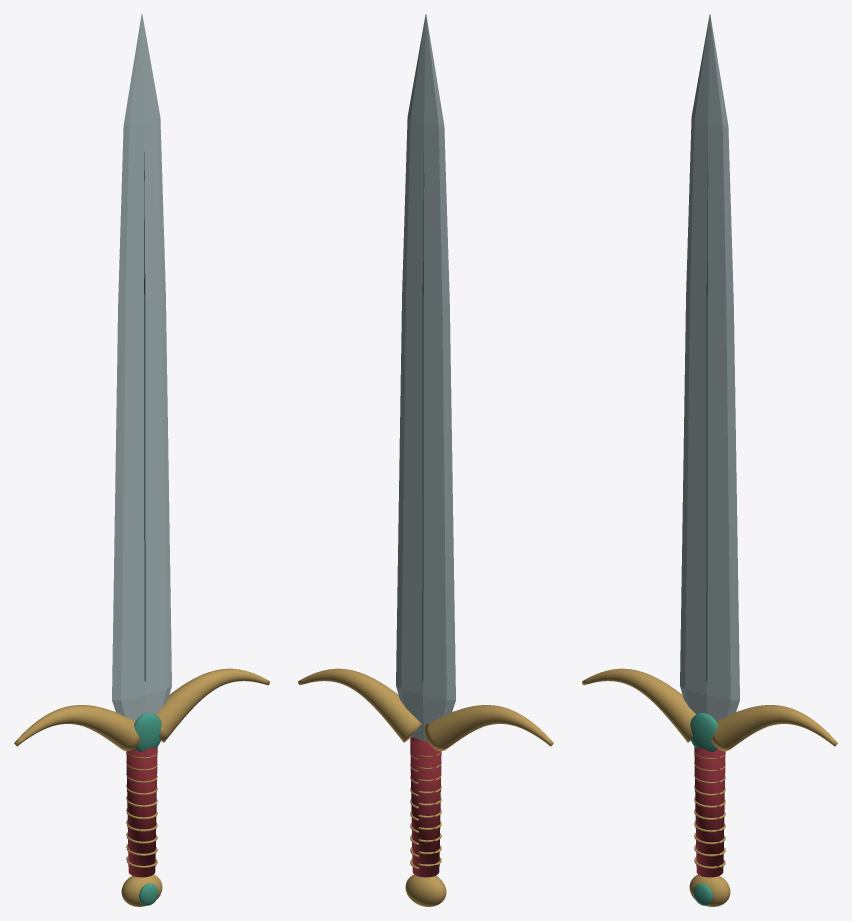
The model's file is jade_sword.glb.
3 views of the same model, side by side, from view 1: azimuth 30°, elevation 25°; view 2: azimuth 150°, elevation 25°; view 3: azimuth 330°, elevation 25° (orthographic).
Parts seen in each view (by area): view 1: JianBlade; view 2: JianBlade; view 3: JianBlade.
Boxes of the visible parts, x1,y1,x2,y2 form: JianBlade: [14, 14, 269, 906]; JianBlade: [298, 14, 553, 906]; JianBlade: [582, 14, 837, 906].
Size of the model in its own units: 0.3732 by 1.25 by 0.044.
